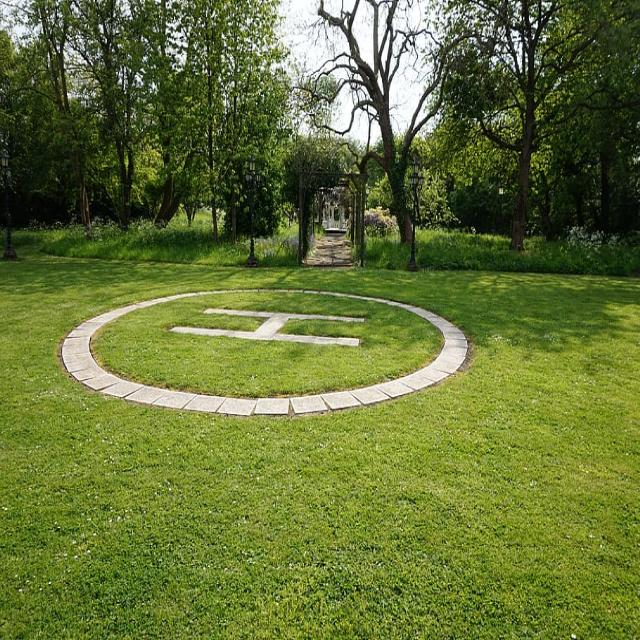helipad: (54, 278, 471, 421)
